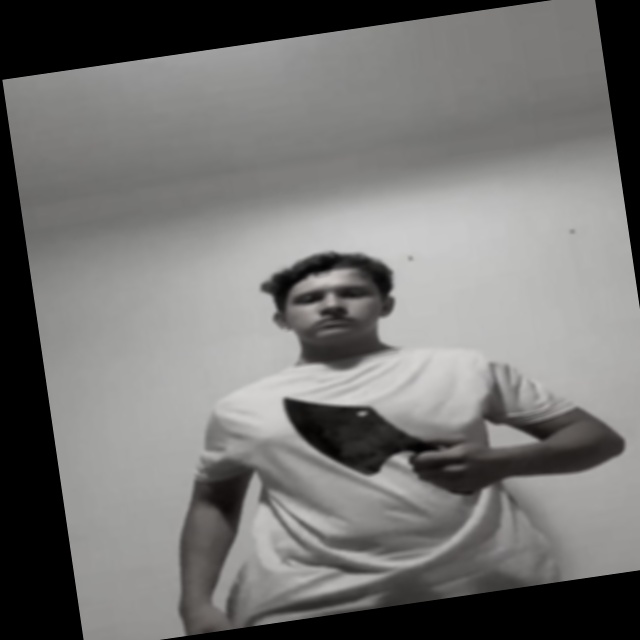Sharp-Object: (282, 381, 422, 486)
